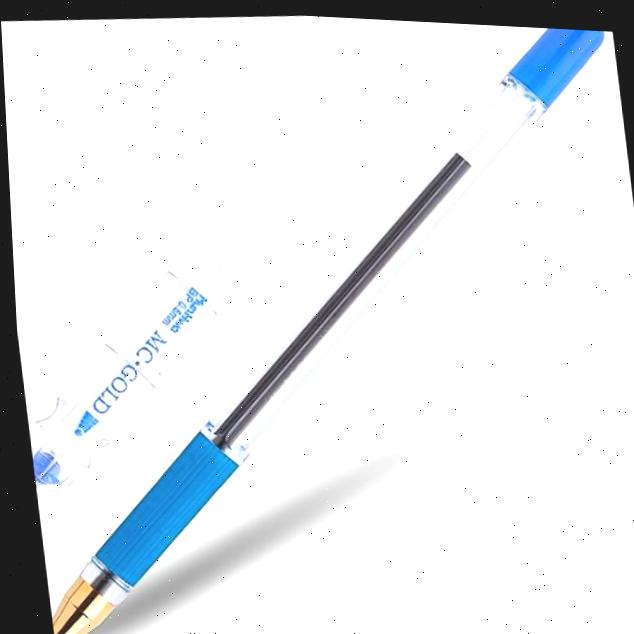pen-pencil: (52, 28, 603, 634), (30, 247, 241, 491)
